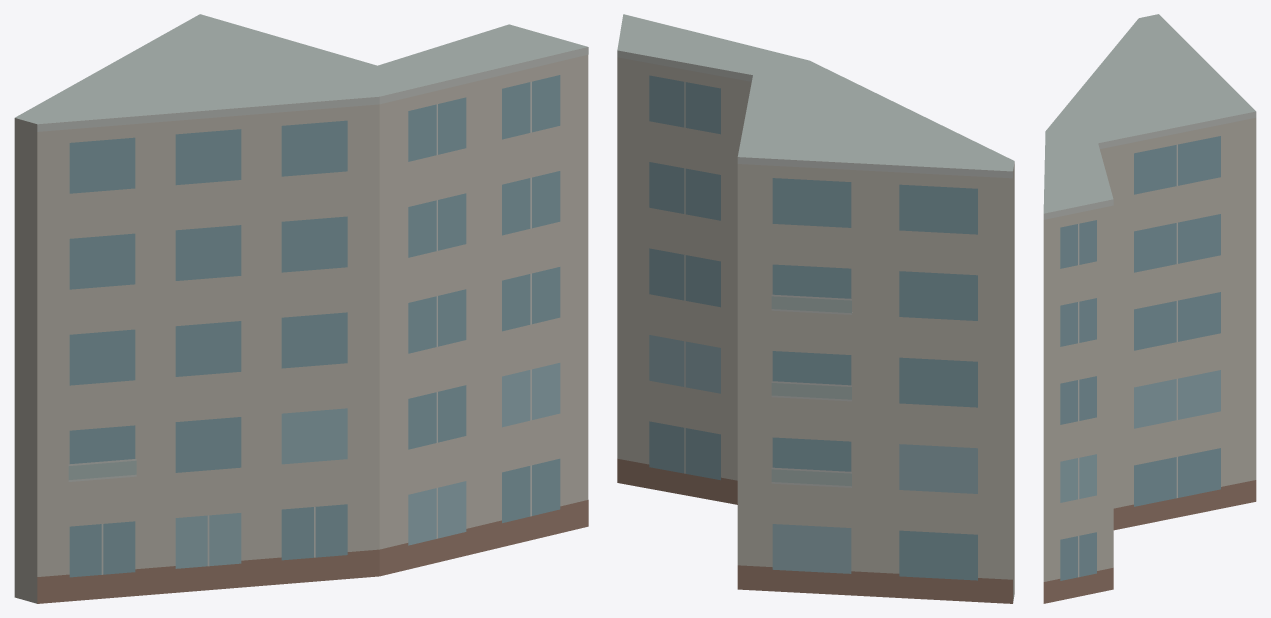
The model's file is survey-upis-32714173.glb.
The picture shows the model from 3 angles, left to right: view 1: azimuth 30°, elevation 25°; view 2: azimuth 150°, elevation 25°; view 3: azimuth 270°, elevation 25°; orthographic projection. The views are drawn at different scales.
Parts seen in each view (by area): view 1: survey-upis-32714173.tmp; view 2: survey-upis-32714173.tmp; view 3: survey-upis-32714173.tmp.
Boxes of the visible parts, box(x1,y1,x2,y2) form: survey-upis-32714173.tmp: box(14, 14, 588, 603); survey-upis-32714173.tmp: box(617, 14, 1014, 603); survey-upis-32714173.tmp: box(1043, 14, 1256, 603).
Bounding box in the file's own units: 16.75 × 15.25 × 7.55.
